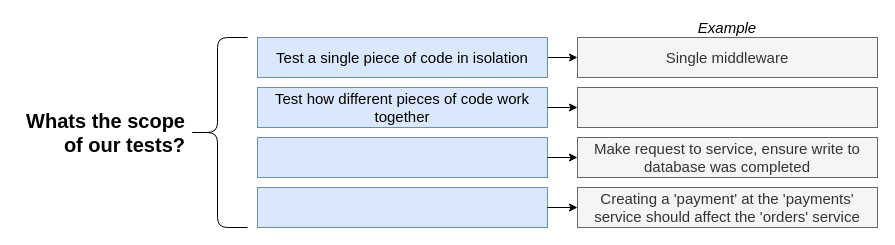
Some shapes in this 895 by 245 pixel diagram are drawn without their labels. The shapes that lost their labels are listed below. From the top down, each one's centre as x and y in pixels, then its label:
[727,107]: Request flowing through multiple middlewares to a request handler
[402,157]: Test how different components work together
[402,207]: Test how different services work together
